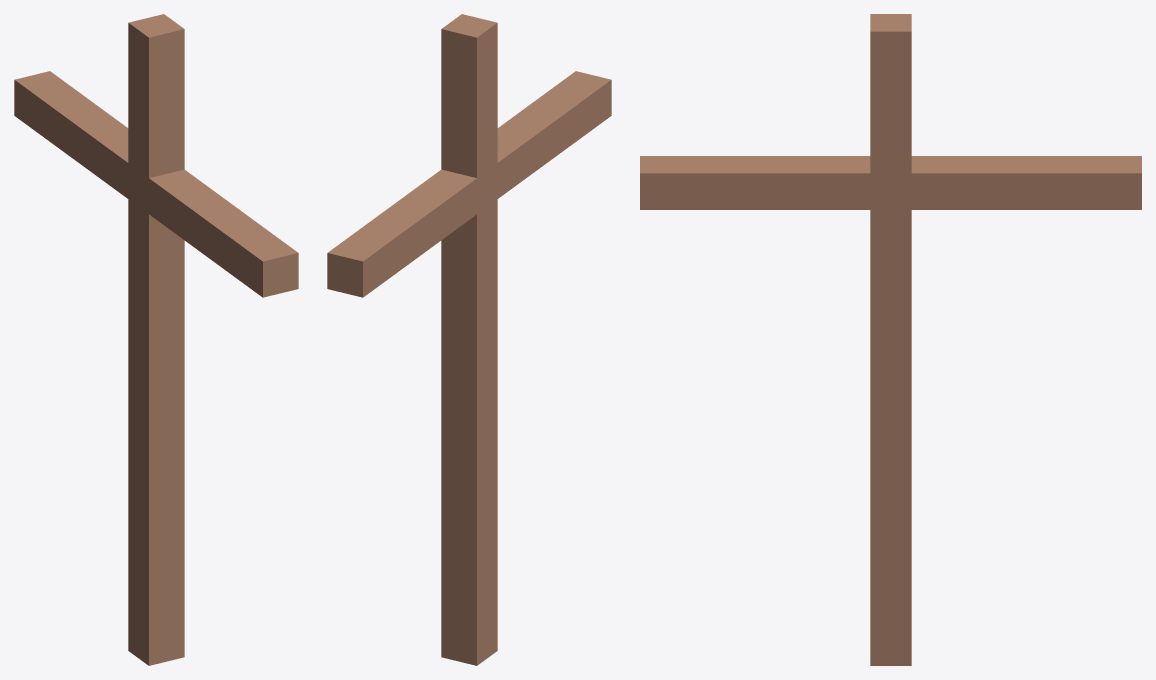
File: BC_InsideTheCross_A.fbx
3 renders of one model, left to right at view 1: azimuth 30°, elevation 25°; view 2: azimuth 150°, elevation 25°; view 3: azimuth 270°, elevation 25°, orthographic.
Visible parts, largest first — view 1: BC_InsideTheCross_A; view 2: BC_InsideTheCross_A; view 3: BC_InsideTheCross_A.
Boxes of the visible parts, box(x1,y1,x2,y2) form: BC_InsideTheCross_A: box(14, 14, 298, 665); BC_InsideTheCross_A: box(327, 14, 611, 665); BC_InsideTheCross_A: box(640, 14, 1141, 665).
Bounding box in the file's own units: 10 × 169 × 121.
